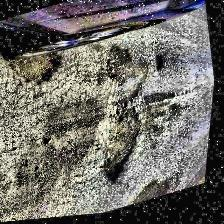pothole: (91, 100, 165, 190), (5, 46, 72, 96), (100, 42, 141, 84), (151, 56, 171, 76)
